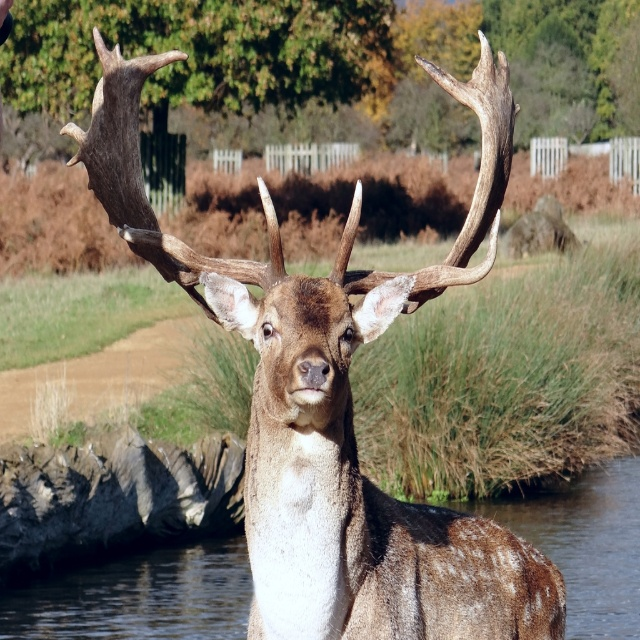Deer: (59, 19, 567, 639)
